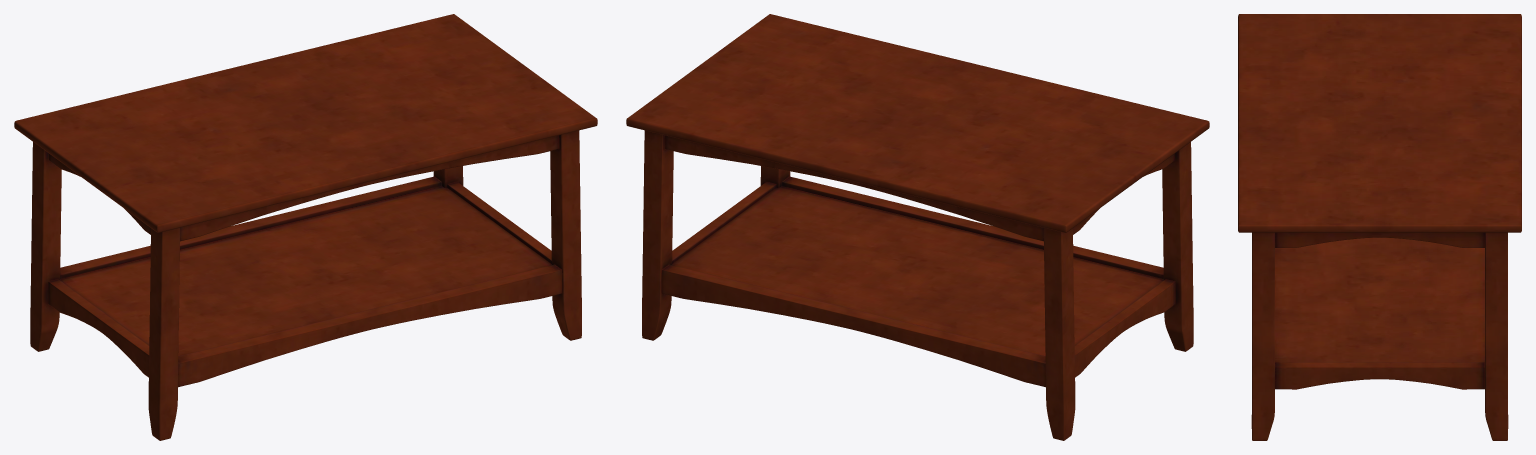
File: abo-B07DBFQFGS.glb
3 renders of one model, left to right at view 1: azimuth 30°, elevation 25°; view 2: azimuth 150°, elevation 25°; view 3: azimuth 270°, elevation 25°, orthographic.
Bounding box in the file's own units: 0.943 × 0.456 × 0.533.
1 material, 1 textured.
